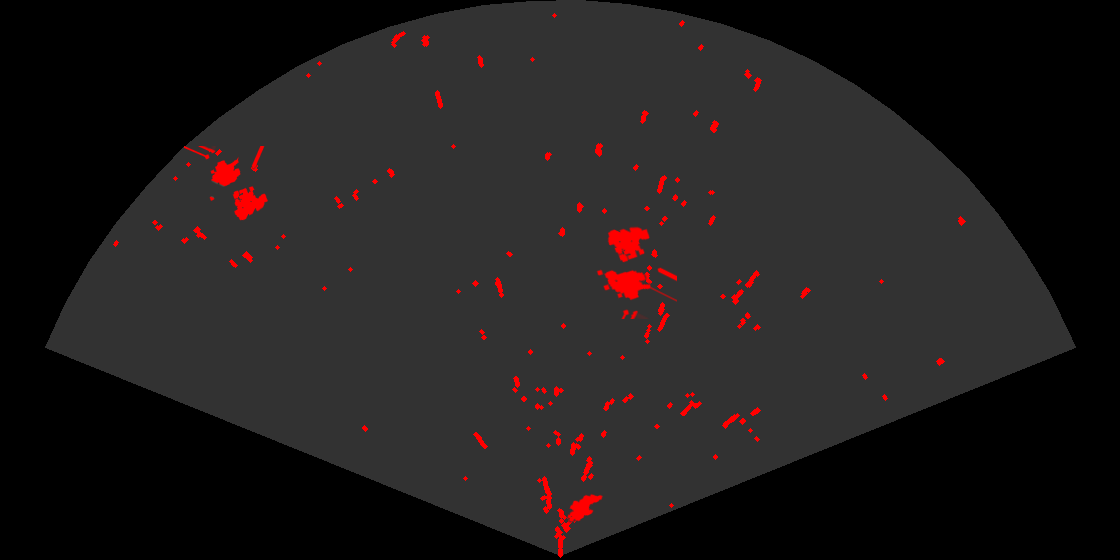AUV: (566, 492, 605, 523)
cage: (595, 225, 677, 319), (184, 146, 270, 222)
